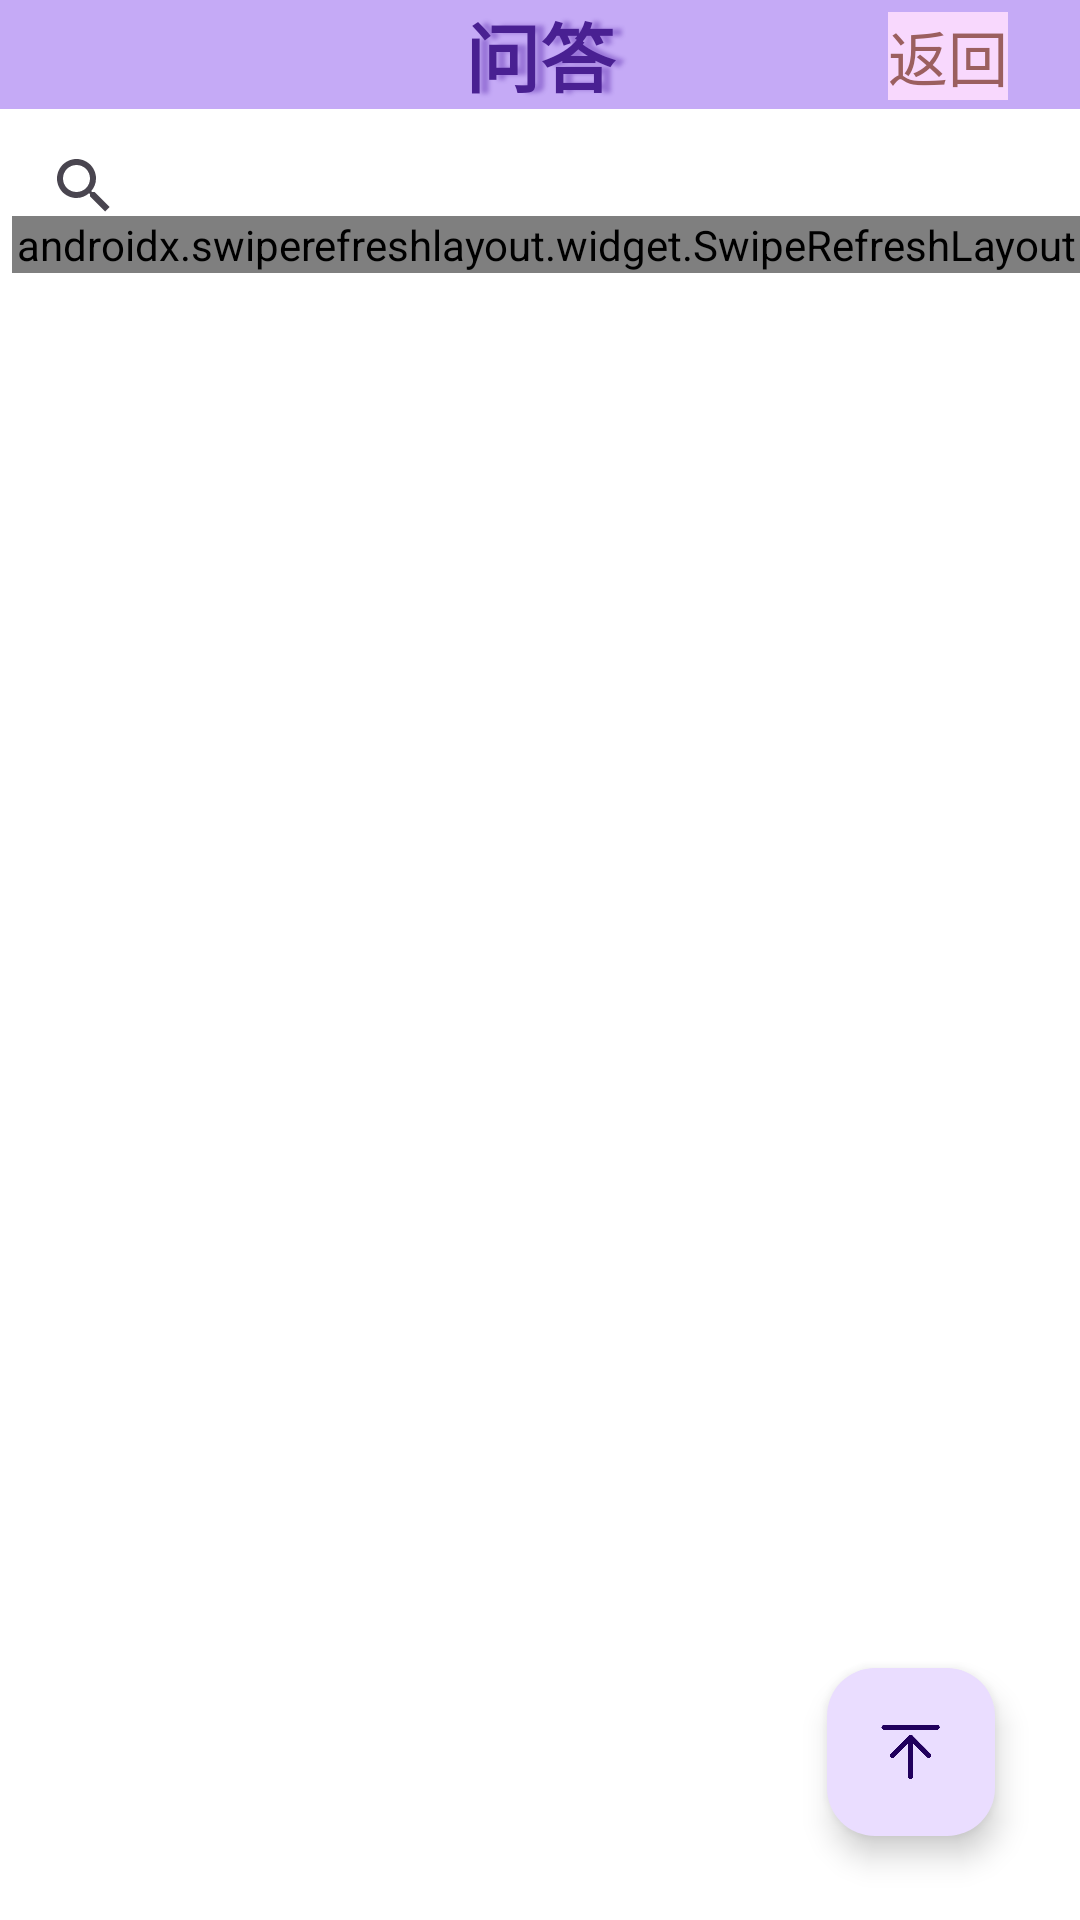

Icons on this 1080*1920 Android screen, each with the point to tap as point (x, y):
返回顶部: point (911, 1752)
